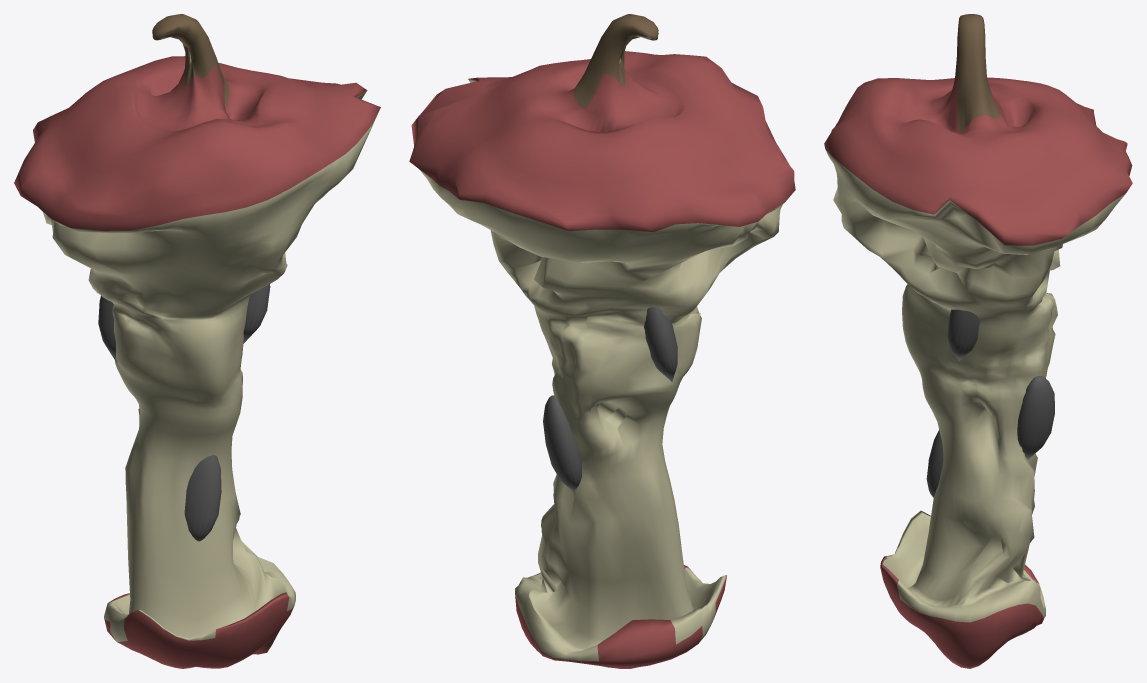
File: organic1.glb
3 views of the same model, side by side, from view 1: azimuth 30°, elevation 25°; view 2: azimuth 150°, elevation 25°; view 3: azimuth 270°, elevation 25° (orthographic). The views are drawn at different scales.
Visible parts, largest first — view 1: pCone5; view 2: pCone5; view 3: pCone5.
Part boxes in pixels (bbox=[...]): pCone5: bbox=[14, 14, 380, 668]; pCone5: bbox=[409, 14, 795, 668]; pCone5: bbox=[824, 14, 1132, 668].
Size of the model in its own units: 0.0516 by 0.0938 by 0.0428.
